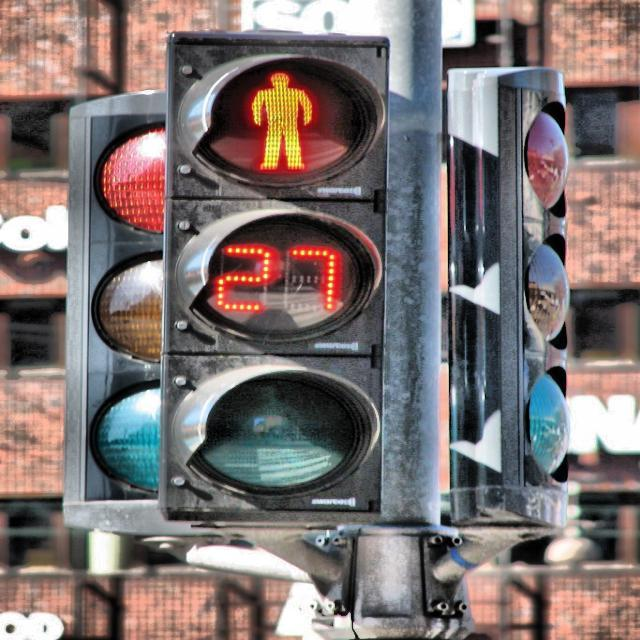red_light: (246, 69, 318, 173)
